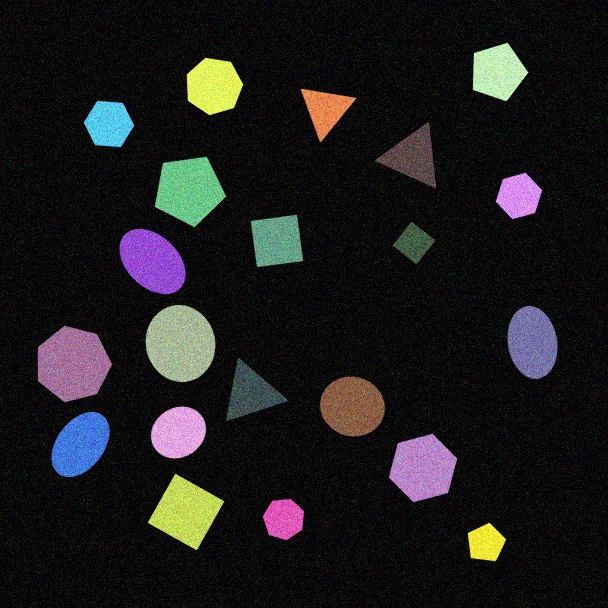Circulo: (145, 304, 216, 383), (319, 376, 386, 437), (150, 406, 207, 459)
Elipse: (119, 228, 186, 295), (51, 411, 110, 478), (507, 305, 558, 380)
Heptagono: (37, 325, 113, 403), (186, 57, 244, 116), (262, 498, 305, 541)
Hexagono: (388, 433, 458, 503), (83, 100, 135, 148), (495, 172, 543, 220)
Pentagono: (154, 156, 227, 228), (472, 42, 529, 102), (467, 522, 507, 562)
Quadrado: (147, 473, 225, 551), (250, 214, 304, 268), (392, 221, 436, 265)
Triangulo: (375, 121, 437, 189), (225, 357, 289, 422), (300, 88, 357, 143)
